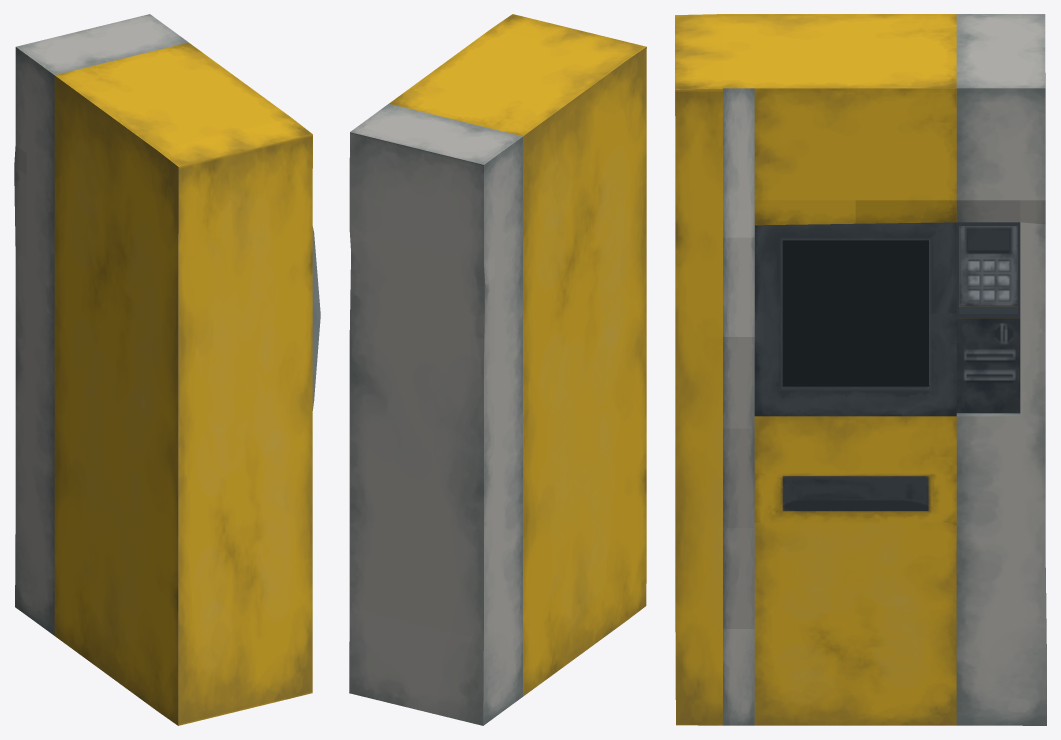
File: TicketMachine.fbx
The picture shows the model from 3 angles, left to right: view 1: azimuth 30°, elevation 25°; view 2: azimuth 150°, elevation 25°; view 3: azimuth 270°, elevation 25°; orthographic projection. The views are drawn at different scales.
Parts seen in each view (by area): view 1: TicketMachine; view 2: TicketMachine; view 3: TicketMachine.
Boxes of the visible parts, x1,y1,x2,y2 form: TicketMachine: (14, 14, 320, 725); TicketMachine: (349, 14, 646, 725); TicketMachine: (675, 14, 1046, 725).
Size of the model in its own units: 58.77 by 191 by 101.
